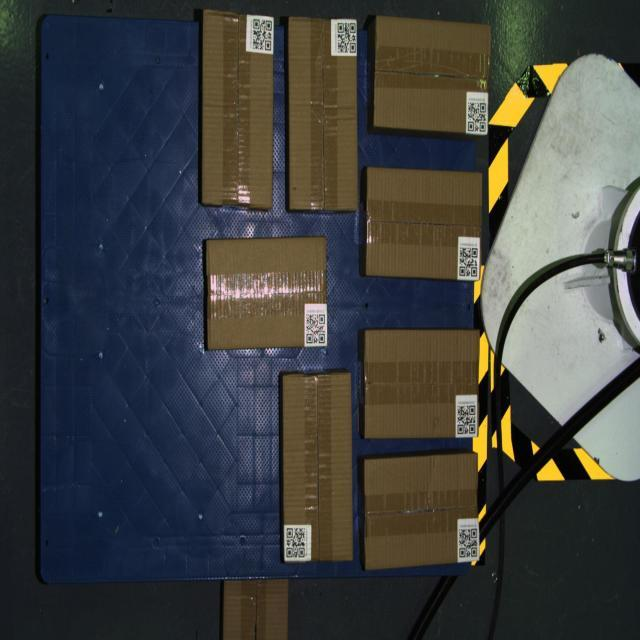box: (202, 10, 274, 209), (206, 236, 328, 350), (374, 16, 490, 135), (364, 453, 480, 571), (283, 372, 353, 564), (289, 17, 358, 211), (366, 167, 482, 281), (364, 330, 480, 439)
